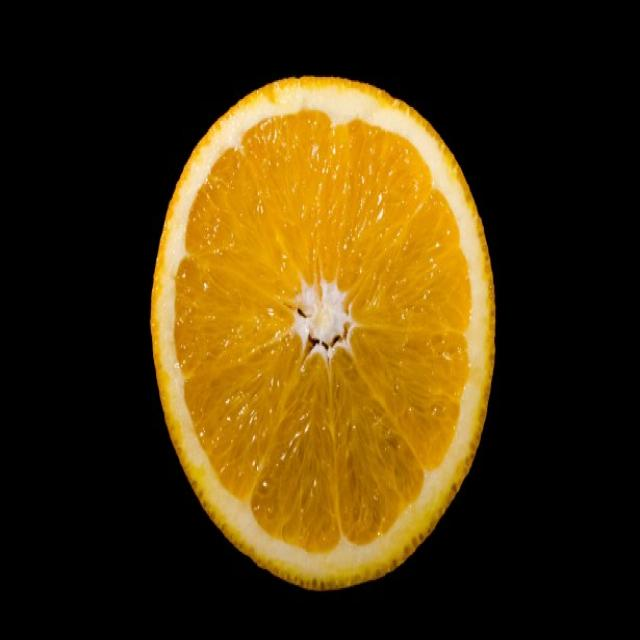orange: (155, 76, 498, 584)
